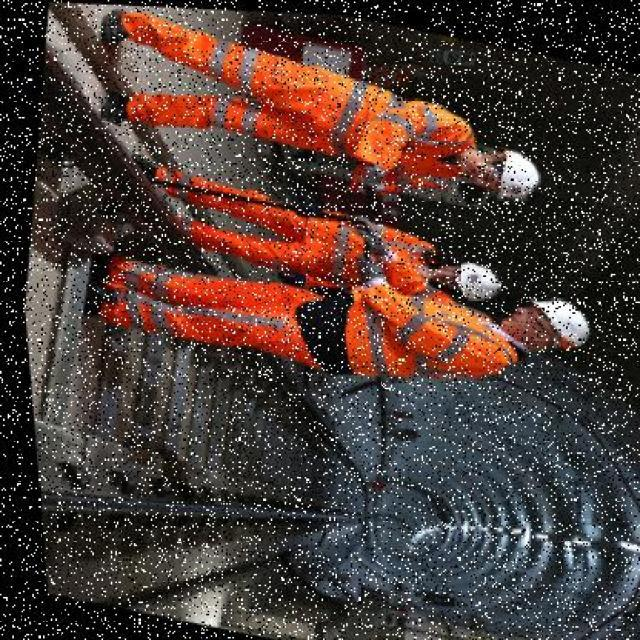helmet: (514, 283, 590, 356), (477, 142, 544, 204), (446, 256, 500, 301)
vest: (255, 58, 479, 182), (308, 277, 500, 396), (274, 202, 432, 294)
